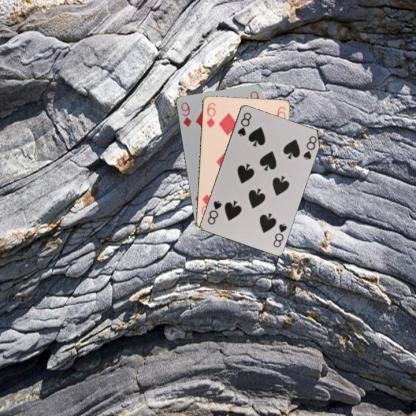6d: (203, 100, 217, 128)
8s: (234, 110, 252, 137), (270, 221, 288, 248)
9d: (178, 100, 192, 128)
